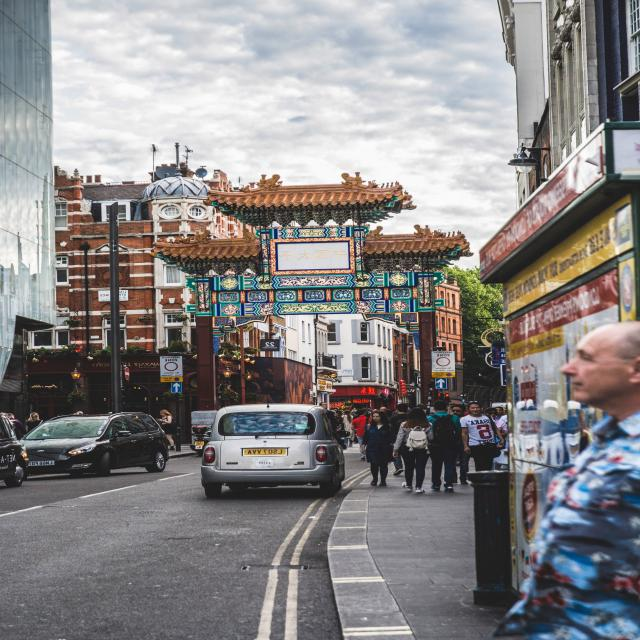adult: (527, 322, 640, 640), (392, 408, 432, 494), (428, 401, 462, 491), (462, 402, 503, 468), (361, 411, 393, 486), (156, 410, 174, 450)
